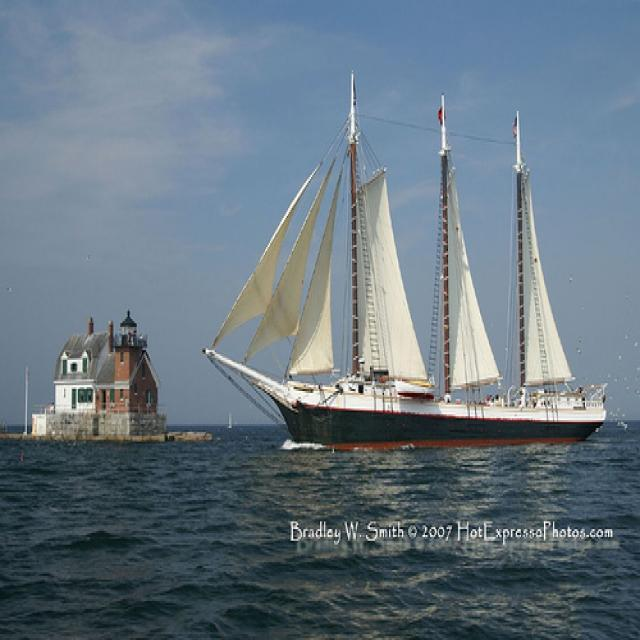Ship: (216, 75, 609, 458)
